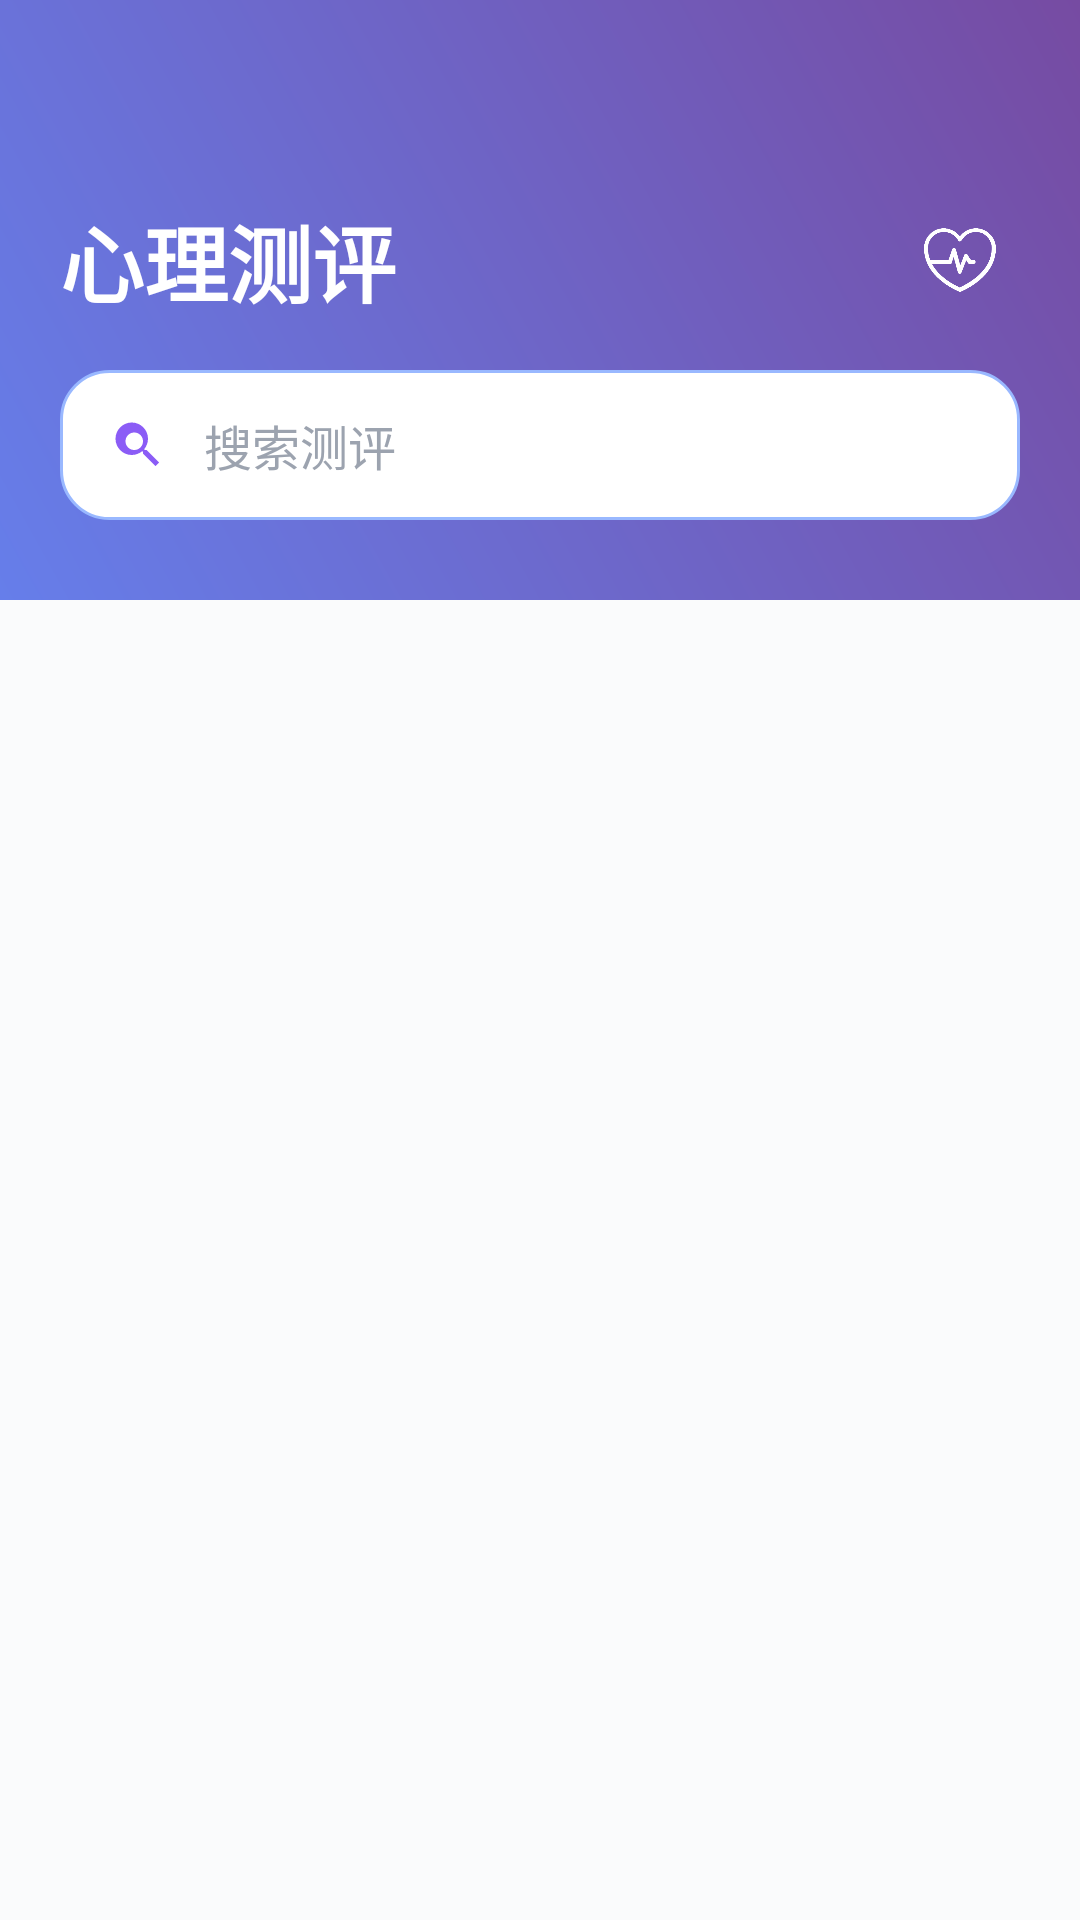

Screen size 1080w x 1920h. Icon name, then its center in pixels as [x,y]:
search: [137,444]
我的测评: [960,260]
